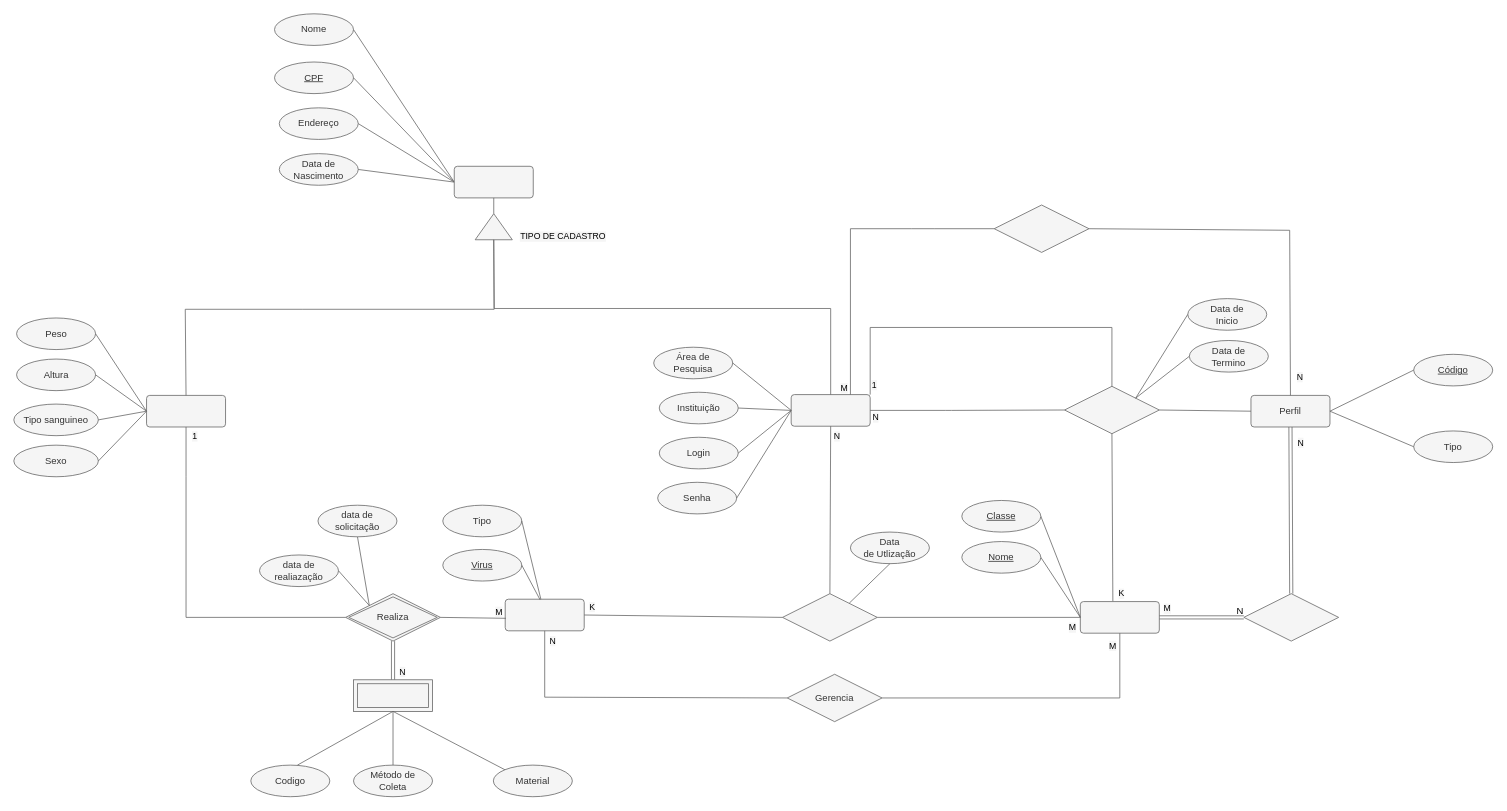
Some shapes in this 1507 by 811 pixel diagram are drawn without their labels. Here are the shapes that lost their labels. From the top down, the centre of each, then its label:
At (493,182): "PESSOA".
At (1041,228): "Possui".
At (186,411): "Paciente".
At (830,410): "USUARIO".
At (1111,410): "Tutela".
At (544,614): "Exame".
At (829,617): "HISTORICO".
At (1119,617): "Serviço".
At (1291,617): "Pertence".
At (393,695): "Amostra".
